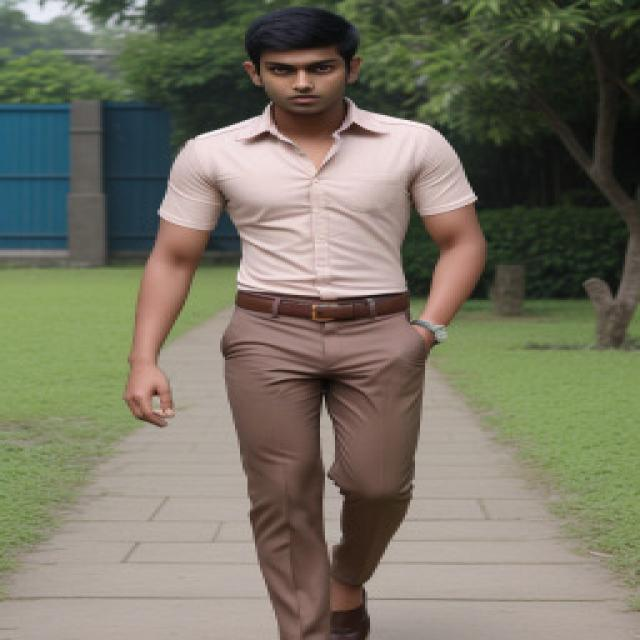Ai human 2: (125, 3, 530, 640)
